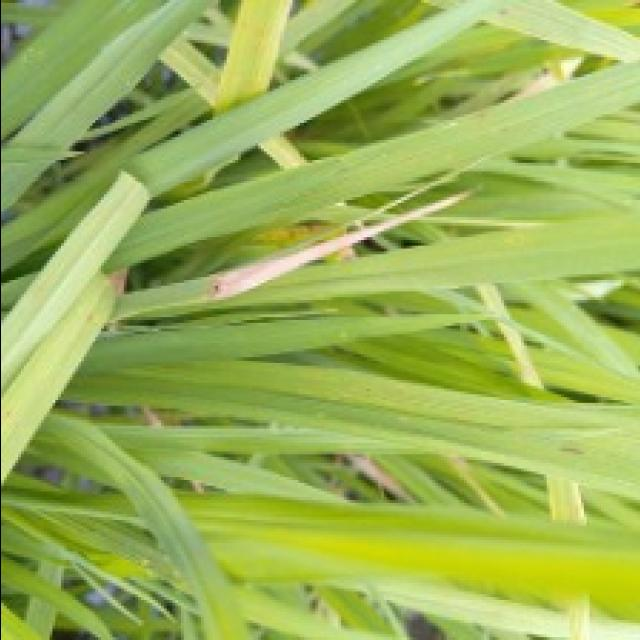Unhealthy: (206, 187, 476, 302), (340, 455, 411, 505)
